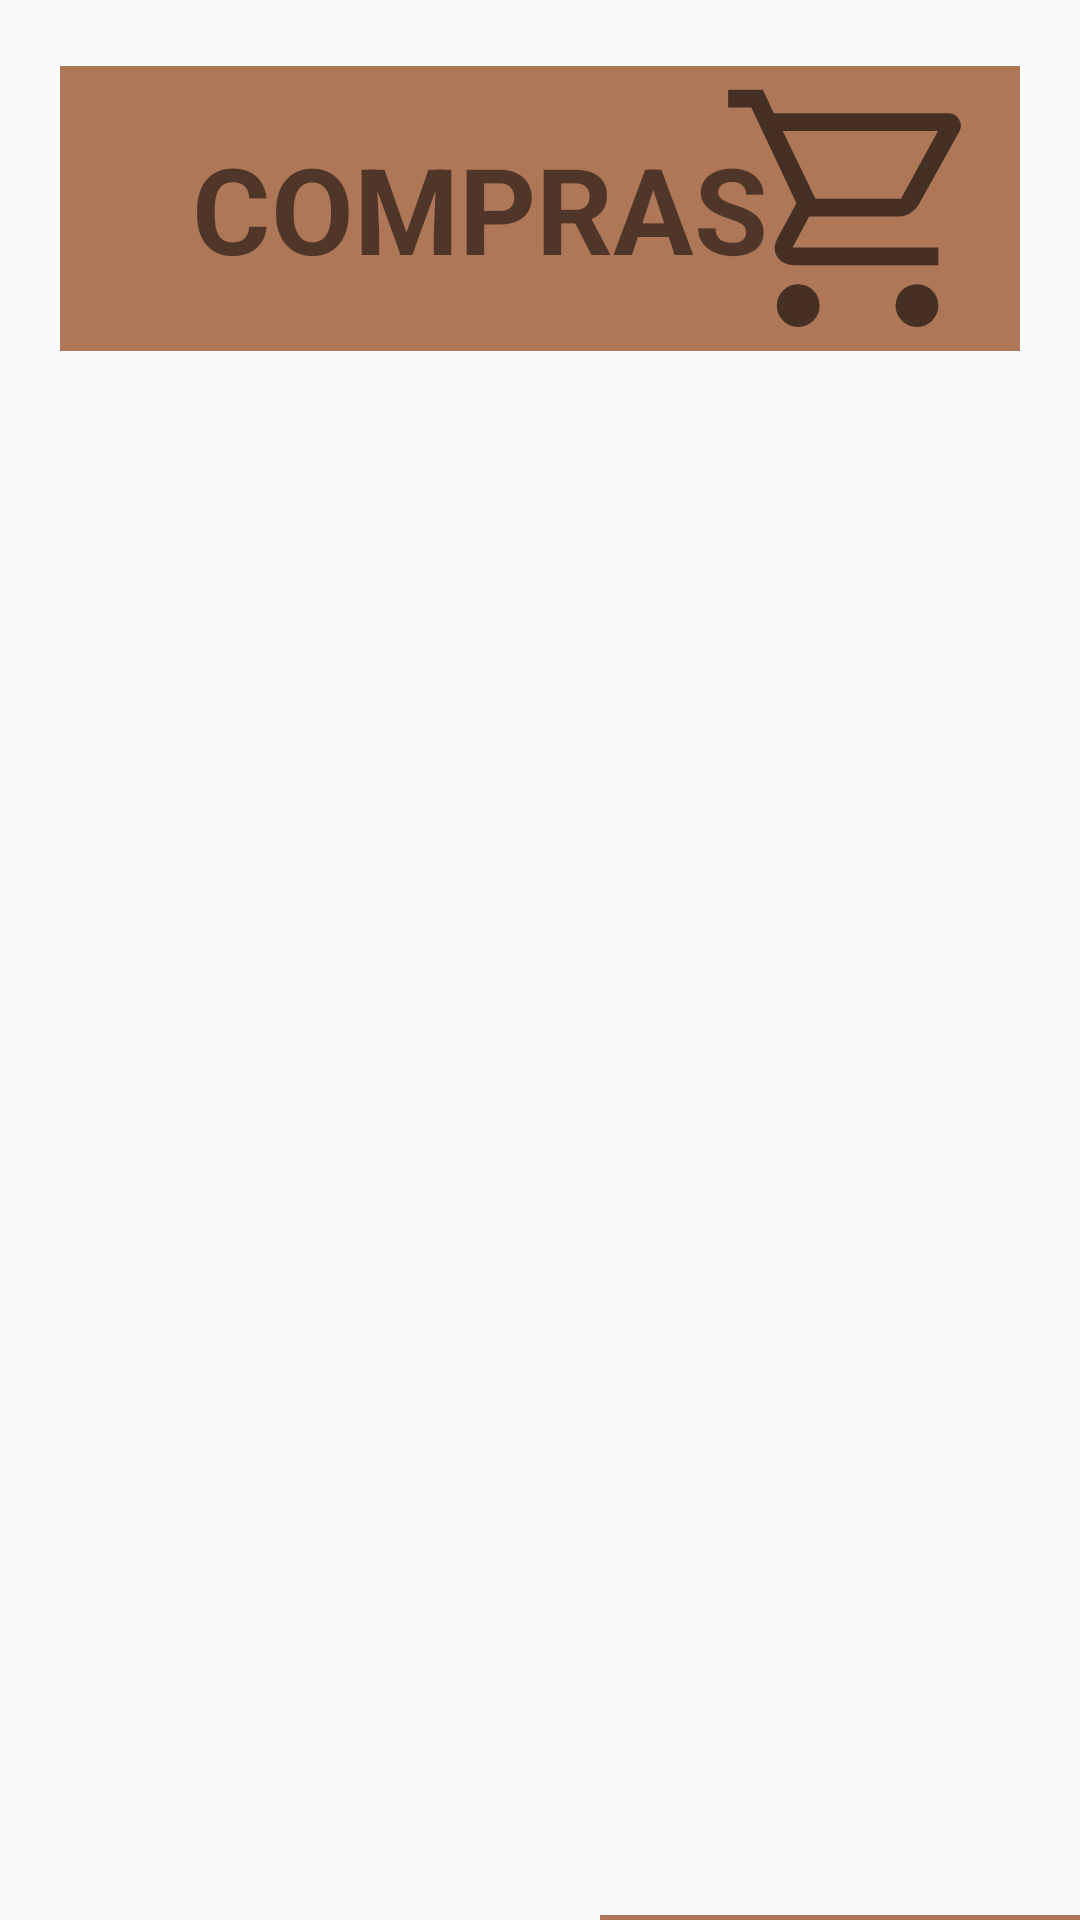

Where icons sit on this 1080 × 1920 app screen, as (left=x1, top=y1, right=x2, bottom=y2):
carrito: (left=690, top=66, right=1020, bottom=351)
